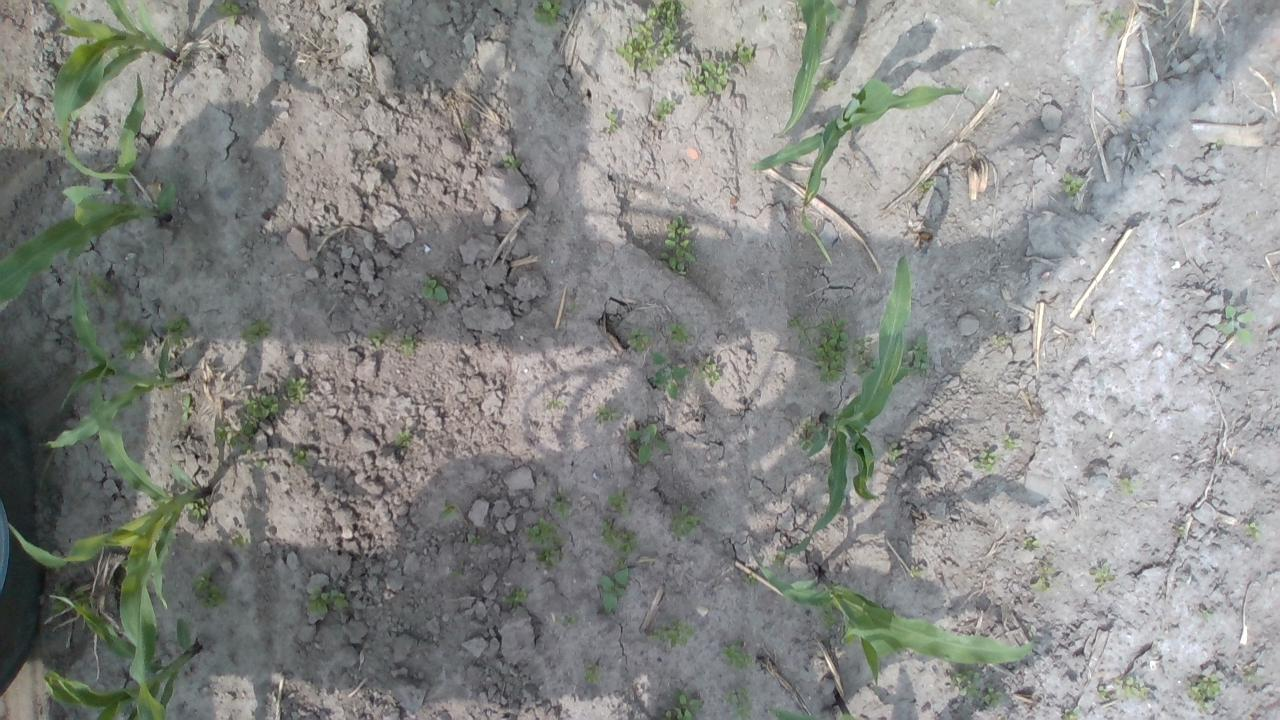Maize: (0, 368, 208, 720), (744, 534, 1034, 689), (754, 74, 988, 262), (0, 75, 181, 312), (782, 256, 912, 558), (45, 0, 178, 188), (44, 266, 180, 448), (41, 592, 202, 720), (770, 0, 844, 142), (768, 683, 858, 720)
Weeds: (614, 0, 686, 73), (788, 313, 850, 383), (658, 215, 698, 276), (522, 516, 568, 568), (627, 420, 670, 466), (651, 349, 689, 399), (680, 61, 730, 98), (598, 556, 630, 612), (112, 318, 150, 362), (190, 570, 231, 610), (646, 618, 697, 650), (898, 333, 932, 379), (1214, 305, 1254, 342), (1184, 674, 1222, 712), (50, 586, 97, 616), (305, 584, 349, 616), (601, 518, 639, 554), (660, 687, 701, 720), (670, 504, 704, 542), (163, 312, 195, 352), (719, 636, 754, 670), (850, 333, 879, 374), (948, 664, 979, 700), (84, 271, 114, 307), (209, 0, 247, 28), (242, 392, 280, 419), (726, 684, 754, 720), (227, 422, 256, 456), (1114, 675, 1150, 701), (1099, 6, 1127, 39), (240, 316, 272, 344), (531, 0, 563, 28), (548, 486, 574, 520), (794, 416, 820, 450), (1089, 563, 1117, 593), (1029, 566, 1059, 593), (696, 356, 722, 386), (816, 603, 842, 630), (606, 489, 632, 516), (732, 38, 759, 64), (422, 276, 448, 302), (665, 322, 692, 346), (972, 445, 996, 472), (286, 376, 309, 404), (624, 326, 648, 352), (1063, 172, 1087, 196), (650, 98, 676, 120), (184, 498, 209, 520), (984, 682, 1004, 708), (364, 326, 388, 347), (592, 404, 620, 421), (504, 589, 529, 608), (438, 498, 461, 518), (180, 394, 195, 424), (584, 662, 604, 684), (230, 529, 252, 548), (770, 550, 788, 573), (290, 448, 310, 467), (211, 421, 231, 440), (398, 333, 416, 354), (1019, 536, 1042, 552), (604, 110, 620, 133), (885, 442, 902, 463), (814, 76, 836, 92), (499, 150, 518, 168), (1242, 521, 1261, 538), (1118, 476, 1134, 496), (394, 428, 411, 446), (1002, 435, 1021, 450), (1062, 706, 1082, 720), (562, 614, 582, 627), (908, 564, 924, 578), (1196, 607, 1212, 620), (544, 398, 562, 409), (916, 179, 934, 190), (744, 572, 758, 586), (1242, 670, 1258, 682), (1097, 684, 1107, 702), (1210, 138, 1225, 150), (1175, 524, 1186, 538), (992, 336, 1006, 346), (759, 5, 767, 22), (468, 534, 480, 545), (452, 569, 464, 579), (254, 460, 268, 468), (568, 304, 580, 312), (986, 0, 999, 7)
